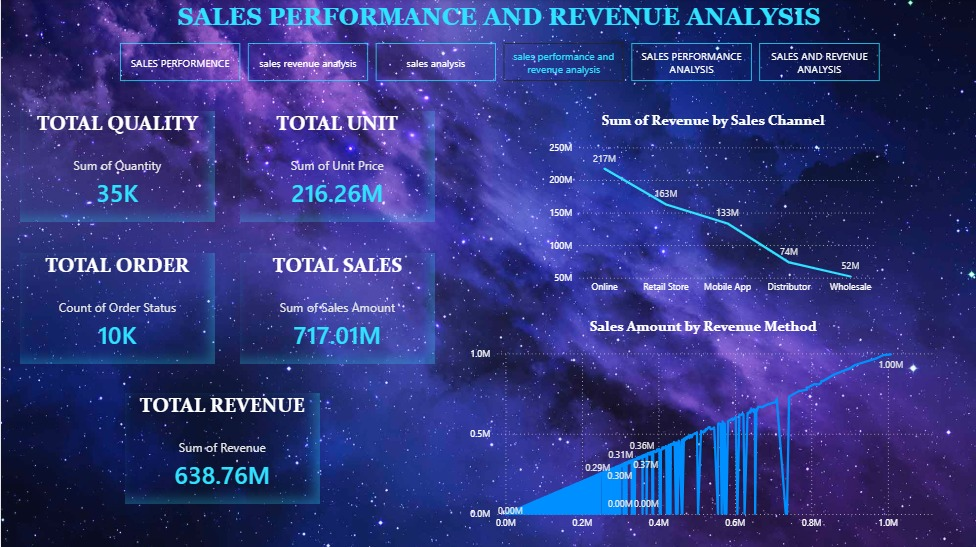

What the dashboard file says about the page in this screenshot:
{"tool":"powerbi","page":{"name":"sales performance and revenue analysis","canvas":[1280,720],"ordinal":3},"visuals":[{"type":"textbox","box":[228.5,0,858.8,57.8],"z":0,"group":"g1"},{"type":"pageNavigator","box":[156.9,57.8,1000,50],"z":1000,"group":"g1"},{"type":"cardVisual","title":"TOTAL UNIT","fields":{"Data":["Sum(Sales_Data.Unit Price)"]},"box":[314.6,147.3,256,145.9],"z":5001},{"type":"cardVisual","title":"TOTAL REVENUE","fields":{"Data":["Sum(Sales_Data.Revenue)"]},"box":[163,517.7,256,145.9],"z":5002},{"type":"cardVisual","title":"TOTAL SALES","fields":{"Data":["Sum(Sales_Data.Sales Amount)"]},"box":[314.6,333.2,256,145.9],"z":5003},{"type":"cardVisual","title":"TOTAL ORDER","fields":{"Data":["CountNonNull(Sales_Data.Order Status)"]},"box":[24.3,333.2,256,145.9],"z":5004},{"type":"cardVisual","title":"TOTAL QUALITY","fields":{"Data":["Sum(Sales_Data.Quantity)"]},"box":[24.3,147.3,256,145.9],"z":5005},{"type":"lineChart","title":"Sales Amount by Revenue Method","fields":{"Category":["Sales_Data.Sales Amount"],"Y":["Sum(Sales_Data.Revenue)"]},"box":[610.7,417.6,623.6,288.9],"z":5006},{"type":"group","id":"g1","title":"Header","box":[156.9,0,1000,107.8],"z":5007},{"type":"lineChart","fields":{"Category":["Sales_Data.Sales Channel"],"Y":["Sum(Sales_Data.Revenue)"]},"box":[715.1,147.3,441.8,249.1],"z":5008}]}

Visuals, with their boxes in screenshot pixels (x1, y1, x2, y2), scaled from the page's 1280x720 canvas onto the 976x547 screenshot:
textbox: bbox=(174, 0, 829, 44)
pageNavigator: bbox=(120, 44, 882, 82)
"TOTAL UNIT" cardVisual: bbox=(240, 112, 435, 223)
"TOTAL REVENUE" cardVisual: bbox=(124, 393, 319, 504)
"TOTAL SALES" cardVisual: bbox=(240, 253, 435, 364)
"TOTAL ORDER" cardVisual: bbox=(19, 253, 214, 364)
"TOTAL QUALITY" cardVisual: bbox=(19, 112, 214, 223)
"Sales Amount by Revenue Method" lineChart: bbox=(466, 317, 941, 537)
"Header" group: bbox=(120, 0, 882, 82)
lineChart - Sales_Data.Sales Channel x Sum(Sales_Data.Revenue): bbox=(545, 112, 882, 301)
